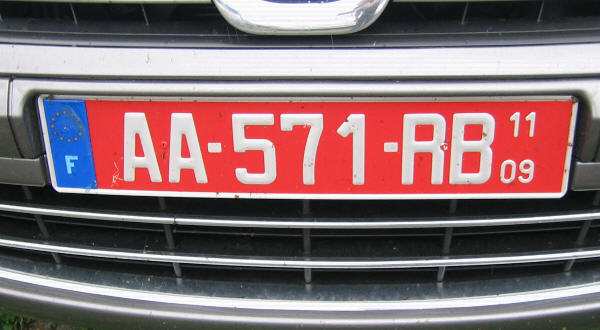license_plate: (36, 93, 580, 200)
